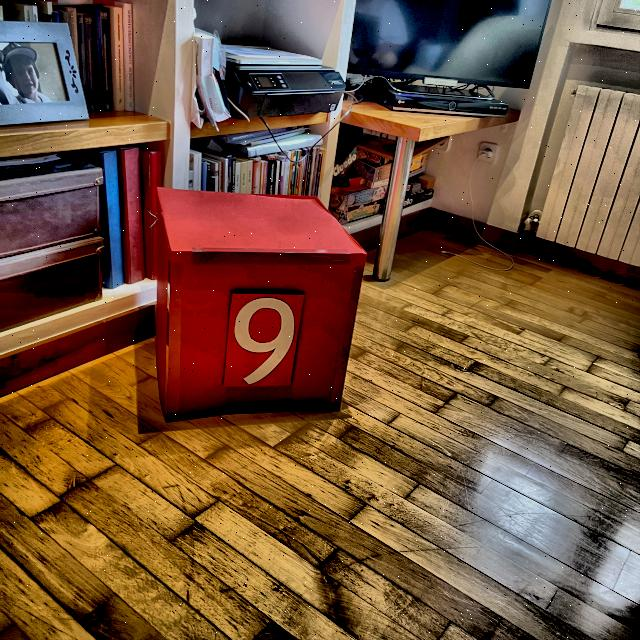nine: (234, 296, 296, 385)
red box: (158, 183, 360, 423)
